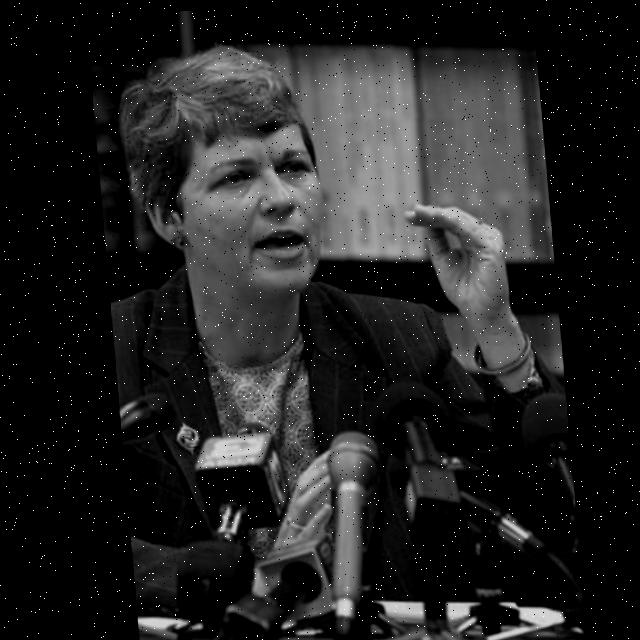face: (160, 93, 353, 300)
